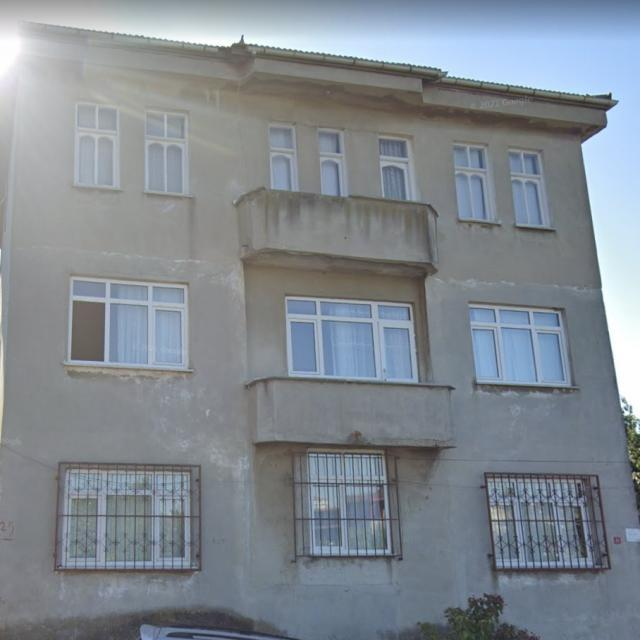Building: (1, 21, 640, 640)
